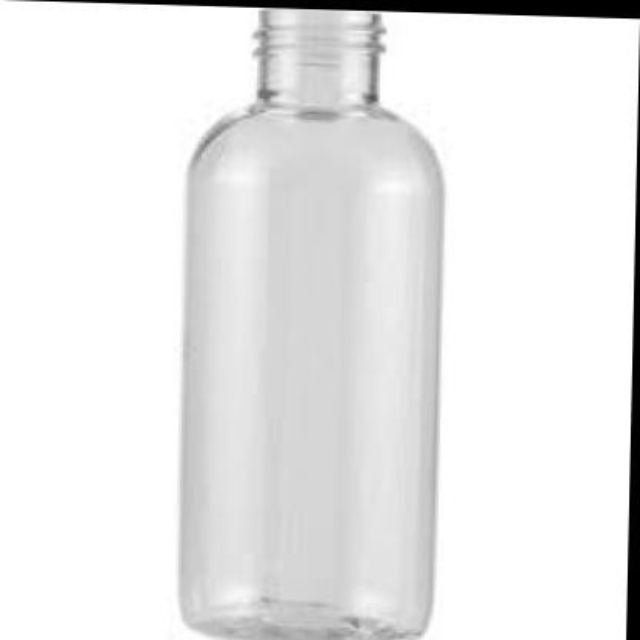trash: (180, 9, 442, 638)
